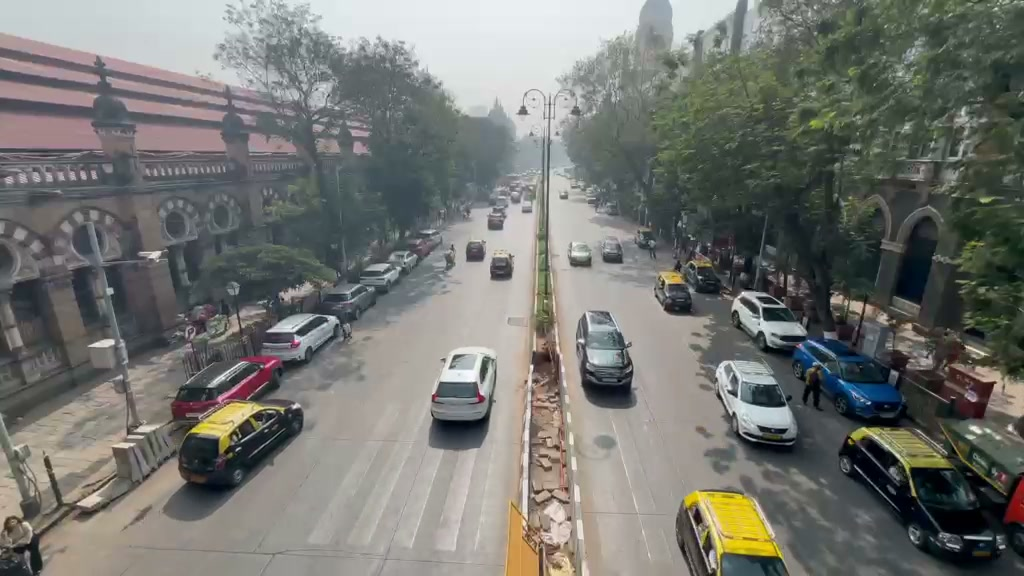bus: (674, 488, 789, 576)
car: (836, 423, 1007, 565), (177, 397, 306, 489), (791, 336, 907, 424), (674, 488, 789, 576), (714, 358, 799, 446), (171, 357, 282, 422), (429, 345, 499, 422), (729, 291, 809, 353), (259, 311, 343, 367), (576, 308, 634, 389), (310, 288, 374, 325), (316, 282, 377, 320), (654, 274, 692, 314), (358, 262, 400, 293), (683, 265, 723, 294), (387, 249, 419, 273), (489, 250, 514, 280), (568, 240, 592, 267), (600, 239, 624, 264), (465, 241, 487, 262), (487, 210, 507, 230)
pedestrian: (802, 365, 823, 408)
